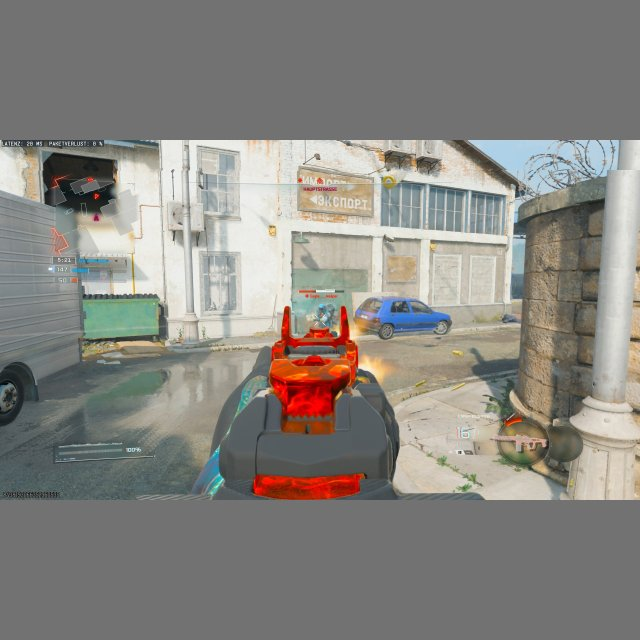head: (317, 303, 326, 314)
player: (308, 302, 336, 330)
